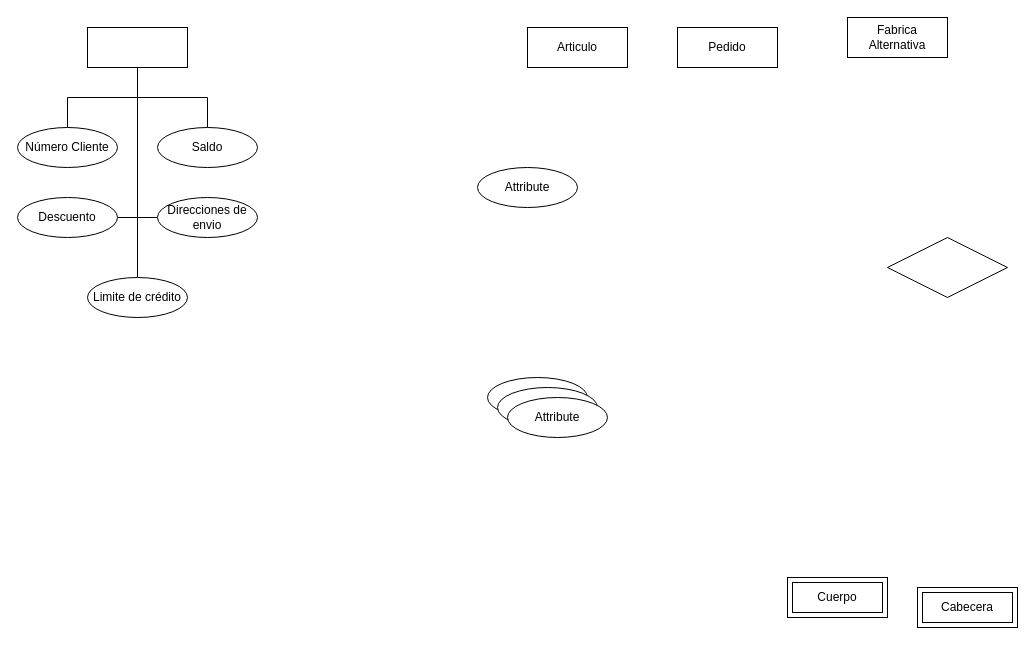
Image size: 1035x645. Some labels were removed from this diagram. The shapes that lost their labels are listed below. From the top down, each one's centre as x and y in pixels, then its label:
At [137,47]: "Cliente".
At [947,267]: "Relationship".
